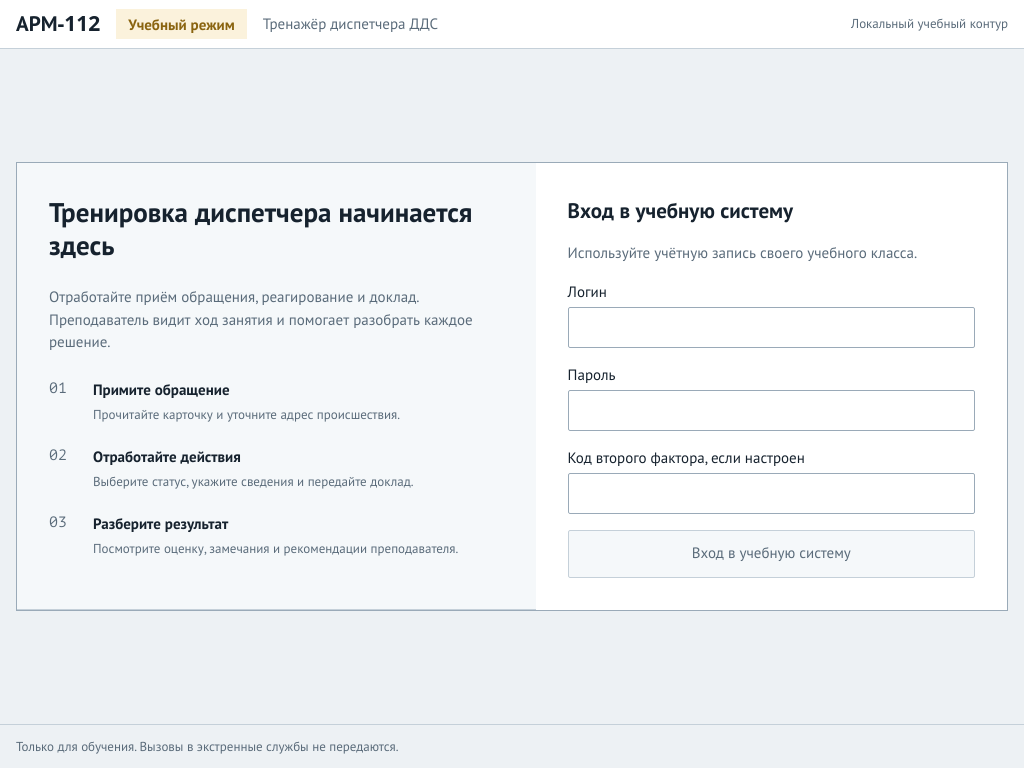
Test: signs in and opens the protected ADMIN route
In the field labelled "Логин": [771, 327] box [568,307,975,348], type "user"
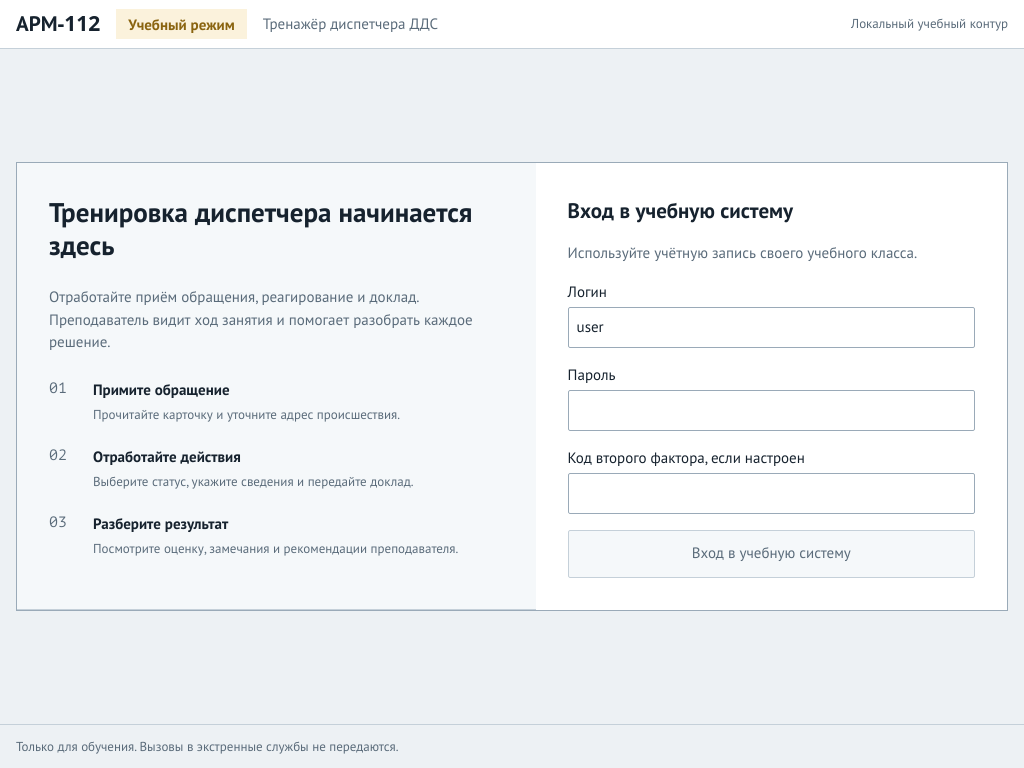
In the password field labelled "Пароль": [771, 410] box [568,390,975,430], type "password"
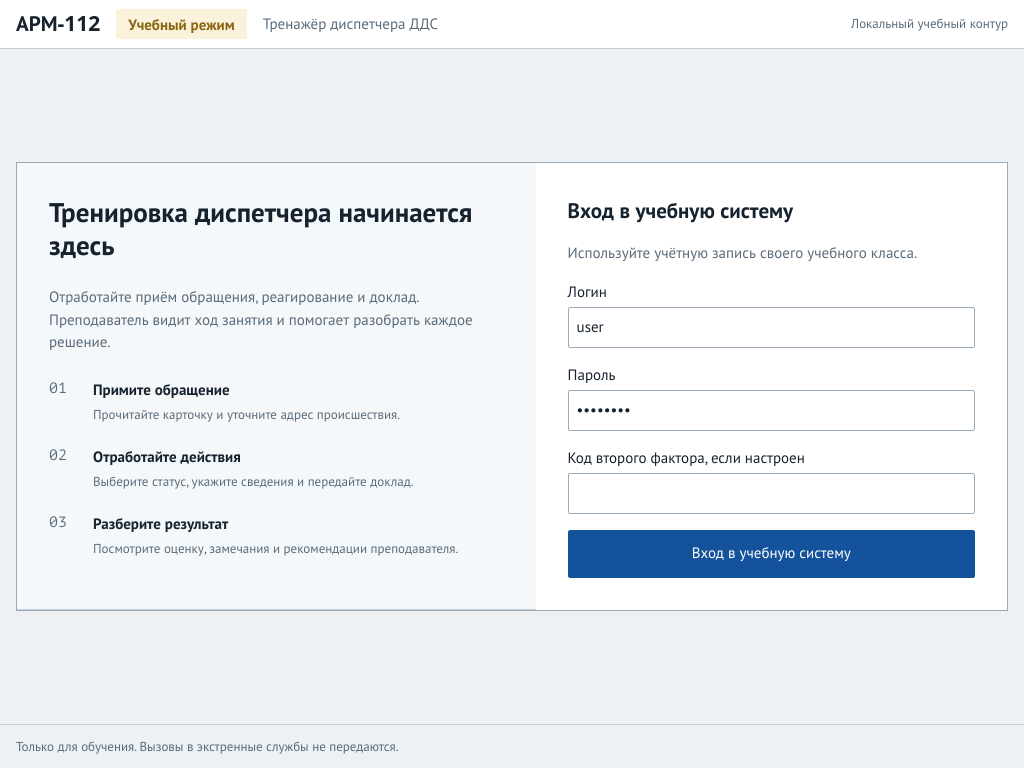
Click the button "Вход в учебную систему": [771, 554] box [568,530,975,578]
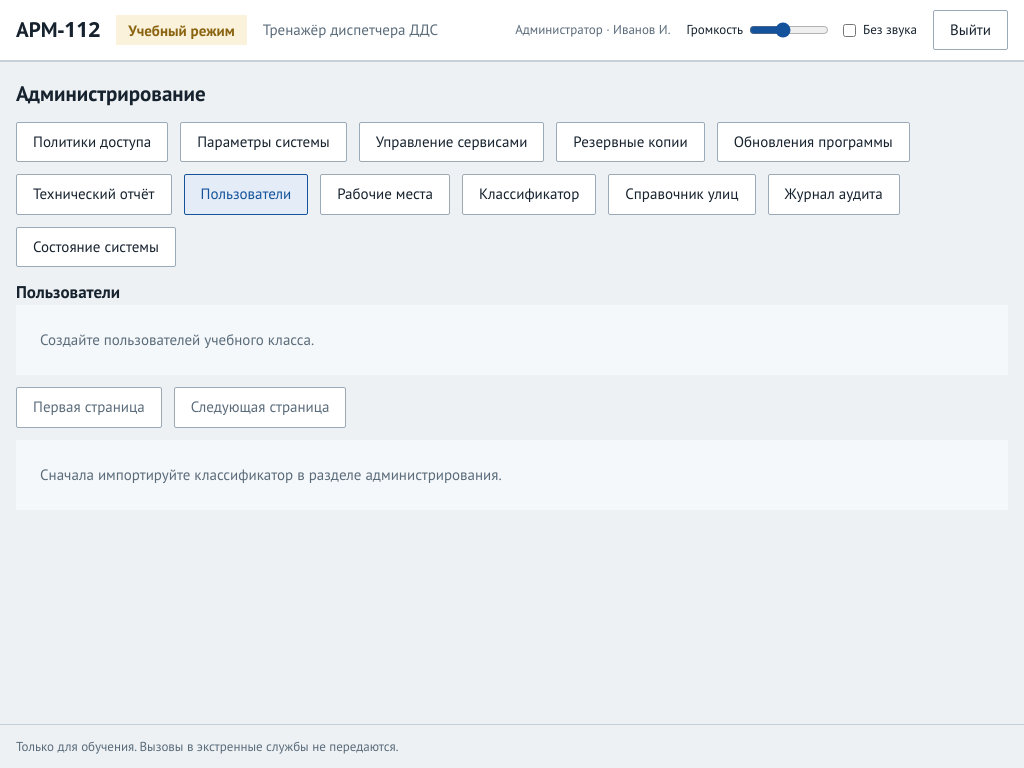
Expected: the heading "Администрирование" is shown, [16,79,206,107]
